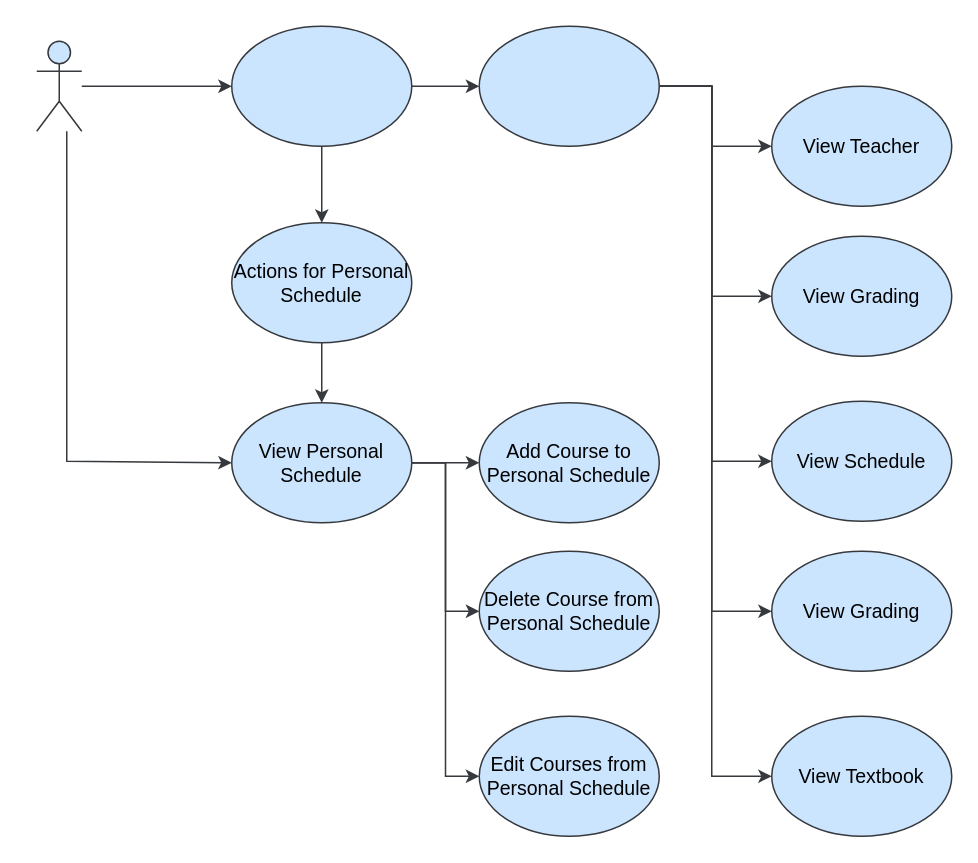
This 978x863 diagram has some shape labels left out. The box of each missing label's shape, as (x1, y1, x2, y2) in pixels:
Course: (478, 25, 659, 146)
Student: (35, 40, 82, 131)
View Courses: (230, 25, 412, 146)
